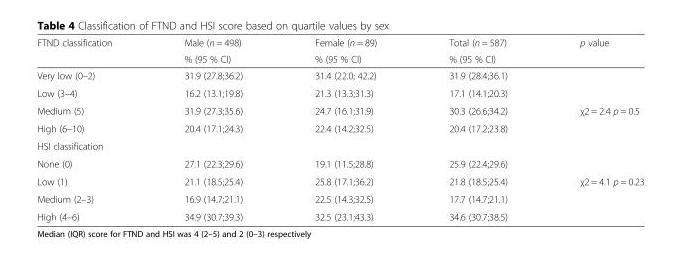table: (36, 36, 643, 221)
table column: (278, 36, 412, 221), (147, 36, 278, 221), (412, 36, 543, 221), (36, 36, 147, 221), (543, 36, 643, 221)
table column header: (36, 36, 643, 66)
table projected row header: (36, 136, 643, 154)
table row: (36, 66, 643, 84), (36, 101, 643, 119), (36, 136, 643, 154), (36, 171, 643, 189), (36, 189, 643, 207), (36, 84, 643, 101), (36, 119, 643, 136), (36, 154, 643, 171), (36, 50, 643, 66), (36, 36, 643, 50), (36, 207, 643, 221)
table spanning cell: (278, 36, 412, 66), (147, 36, 278, 66), (412, 36, 543, 66), (36, 36, 147, 66), (543, 36, 643, 66)
